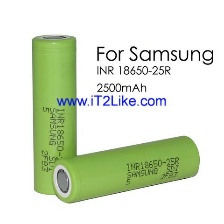battery: (45, 133, 202, 204), (28, 30, 79, 197)
